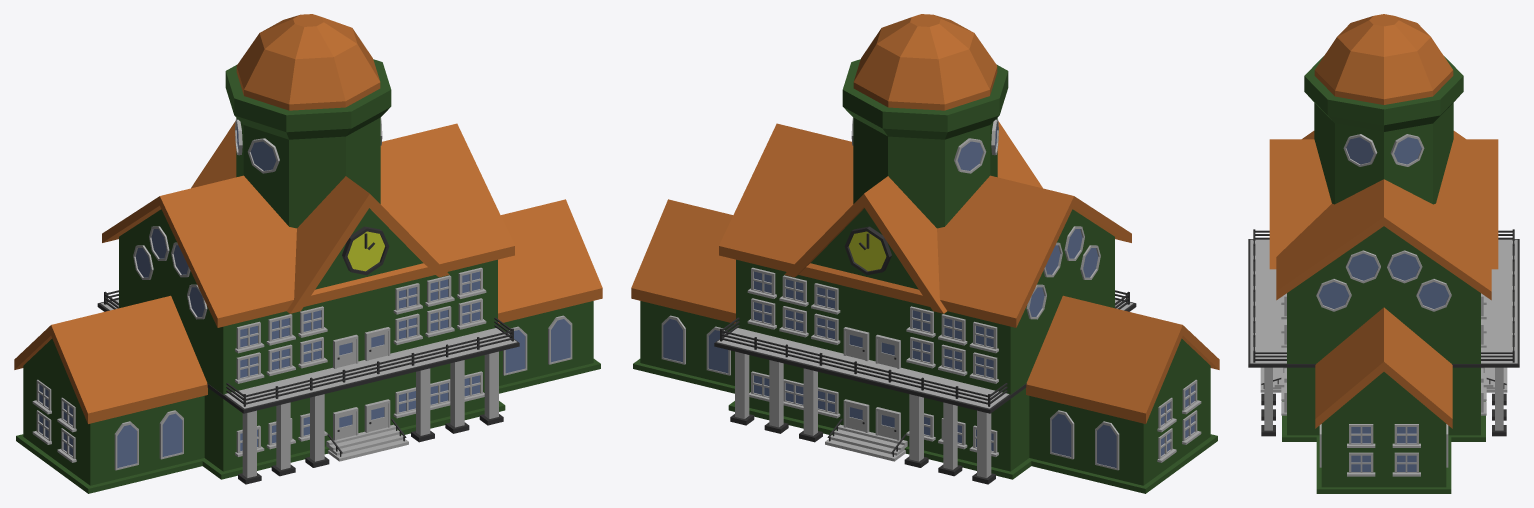
File: City_Hall_1.fbx
3 views of the same model, side by side, from view 1: azimuth 30°, elevation 25°; view 2: azimuth 150°, elevation 25°; view 3: azimuth 270°, elevation 25° (orthographic). The views are drawn at different scales.
Visible parts, largest first — view 1: Building2_1.002; view 2: Building2_1.002; view 3: Building2_1.002.
Part boxes in pixels (x1,y1,x2,y2): Building2_1.002: (14, 14, 602, 493); Building2_1.002: (631, 14, 1219, 493); Building2_1.002: (1248, 14, 1519, 493).
Bounding box in the file's own units: 2196 × 1567 × 1079.
